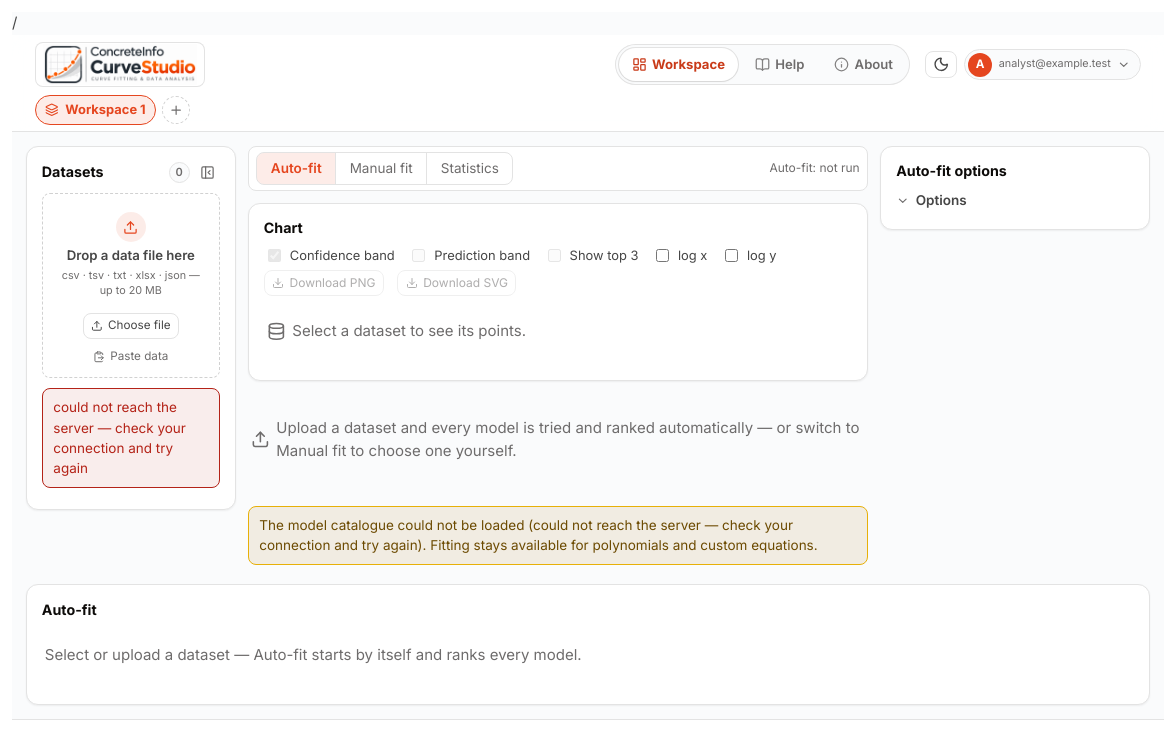
Test: App shell › shows the workspace tabs and starts a second workspace
The width and height of the screenshot is (1164, 729).
Expected: the list named "Workspaces" is shown, x1=35 y1=94 x2=156 y2=126
Click the button named "New workspace" at (176, 110), box x1=162 y1=96 x2=190 y2=124
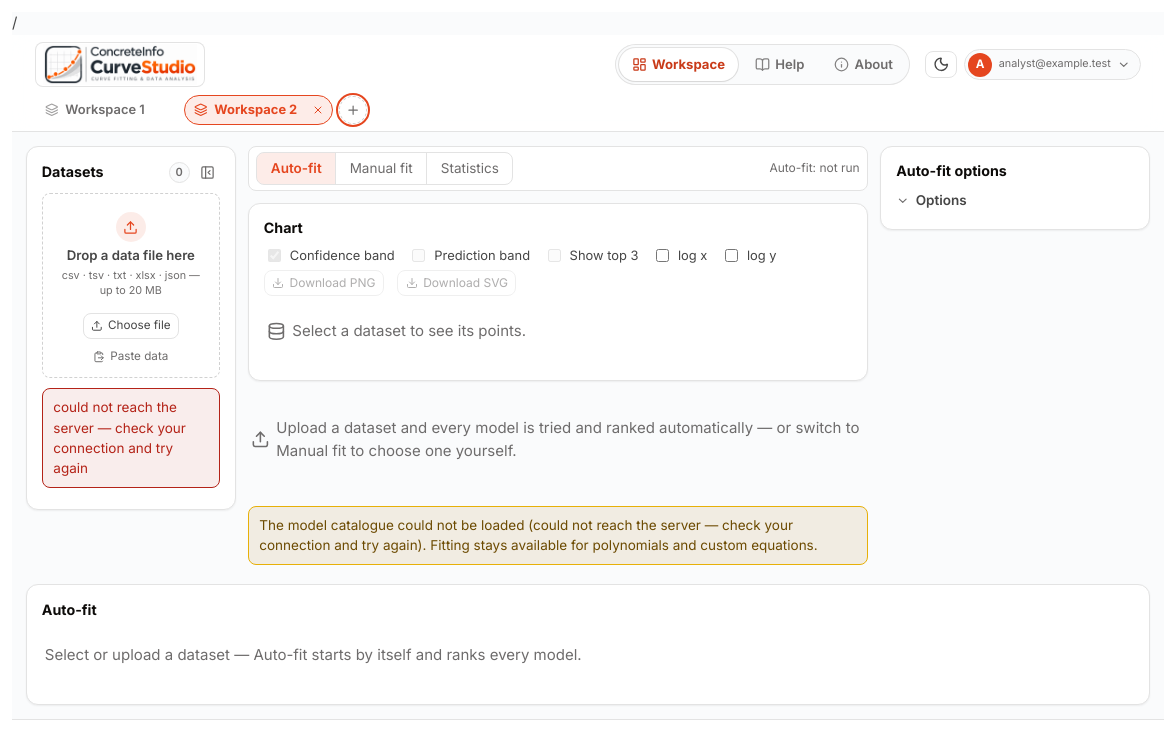
Now the number of buttons "Workspace 1" is 2, box x1=36 y1=96 x2=154 y2=124; x1=185 y1=96 x2=306 y2=124
